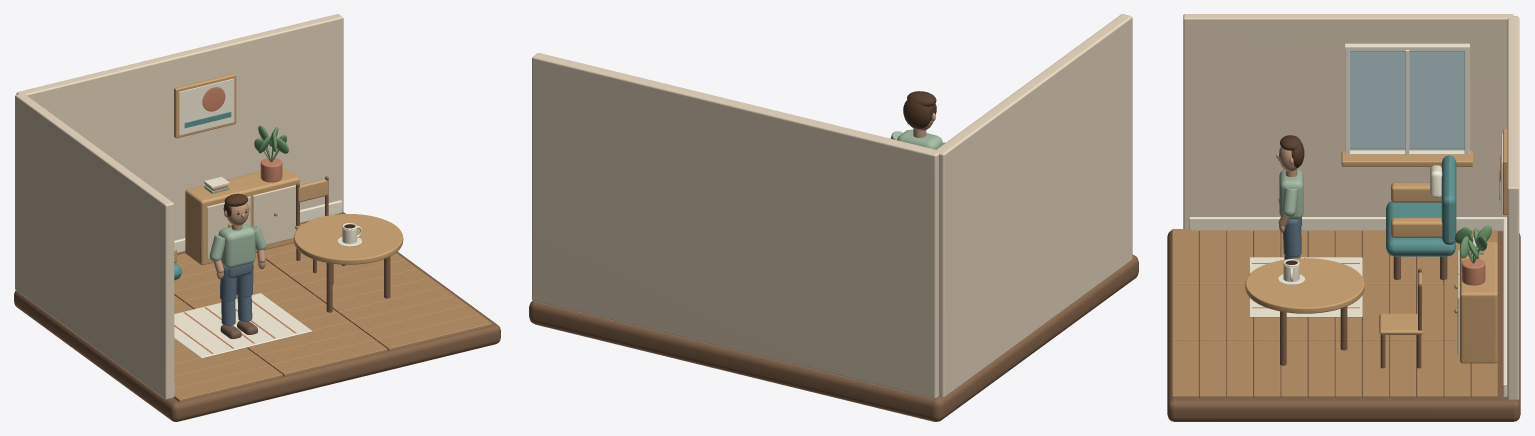
File: room.glb
The picture shows the model from 3 angles, left to right: view 1: azimuth 30°, elevation 25°; view 2: azimuth 150°, elevation 25°; view 3: azimuth 270°, elevation 25°; orthographic projection. The views are drawn at different scales.
Parts seen in each view (by area): view 1: Back plaster wall, Left plaster wall, Diorama foundation, Woven rug, Round oak table, Side cabinet, Cabinet door.001, Artwork cream paper, Oak plank 00 2, Oak plank 00 1, Oak plank 00 0, Oak plank 01 2 (+25 smaller); view 2: Back plaster wall, Left plaster wall, Diorama foundation, Hair back; view 3: Left plaster wall, Diorama foundation, Window view, Back plaster wall, Round oak table, Side cabinet, Left skirting, Teal reading seat, Oak plank 03 2, Woven rug, Oak plank 01 2, Oak plank 02 2 (+48 smaller).
Boxes of the visible parts, bbox=[...] form: Back plaster wall: bbox=[16, 14, 343, 240]; Left plaster wall: bbox=[15, 93, 174, 399]; Diorama foundation: bbox=[14, 212, 500, 421]; Woven rug: bbox=[174, 293, 312, 358]; Round oak table: bbox=[293, 214, 403, 264]; Side cabinet: bbox=[185, 166, 299, 264]; Cabinet door.001: bbox=[252, 185, 296, 244]; Artwork cream paper: bbox=[179, 78, 234, 135]; Oak plank 00 2: bbox=[377, 314, 492, 351]; Oak plank 00 1: bbox=[272, 340, 387, 376]; Oak plank 00 0: bbox=[174, 365, 282, 402]; Oak plank 01 2: bbox=[364, 305, 479, 340]; Back plaster wall: bbox=[532, 53, 938, 398]; Left plaster wall: bbox=[935, 14, 1132, 397]; Diorama foundation: bbox=[529, 254, 1138, 421]; Hair back: bbox=[903, 99, 930, 128]; Left plaster wall: bbox=[1183, 14, 1513, 228]; Diorama foundation: bbox=[1167, 230, 1520, 421]; Window view: bbox=[1350, 51, 1464, 148]; Back plaster wall: bbox=[1507, 16, 1519, 400]; Round oak table: bbox=[1245, 258, 1364, 313]; Side cabinet: bbox=[1460, 242, 1497, 363]; Left skirting: bbox=[1189, 217, 1503, 231]; Teal reading seat: bbox=[1386, 201, 1455, 256]; Oak plank 03 2: bbox=[1253, 340, 1280, 398]; Woven rug: bbox=[1249, 257, 1362, 317]; Oak plank 01 2: bbox=[1199, 340, 1225, 398]; Oak plank 02 2: bbox=[1226, 340, 1252, 398].
Size of the model in its own units: 4.6 by 2.86 by 3.9.
